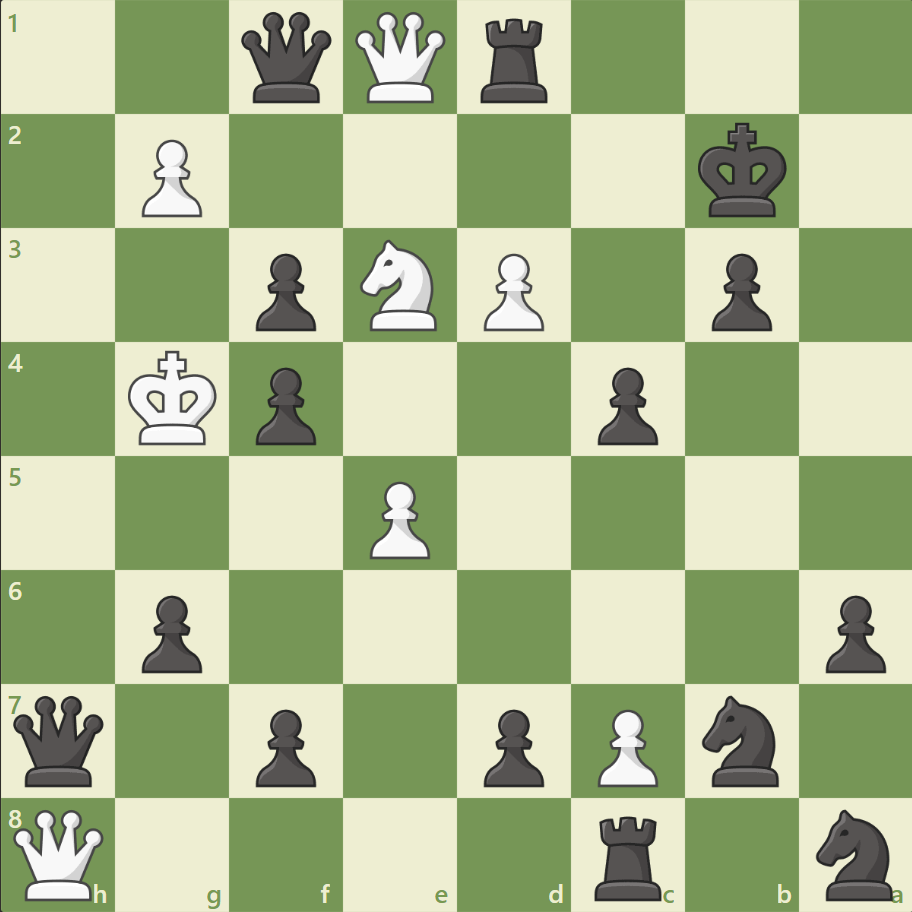K: (124, 344, 224, 452)
N: (351, 234, 449, 337)
P: (474, 246, 549, 337), (133, 132, 208, 223), (588, 700, 662, 791), (361, 473, 435, 564)
Q: (10, 804, 109, 903), (351, 9, 450, 108)
k: (692, 117, 792, 225)
n: (692, 688, 789, 791), (806, 802, 903, 904)
p: (474, 700, 549, 791), (247, 700, 322, 791), (133, 586, 208, 677), (247, 359, 322, 450), (701, 246, 776, 337), (247, 246, 322, 337), (815, 586, 889, 677), (588, 359, 662, 450)
q: (10, 690, 109, 789), (237, 9, 336, 108)
r: (587, 806, 670, 904), (473, 12, 556, 109)
